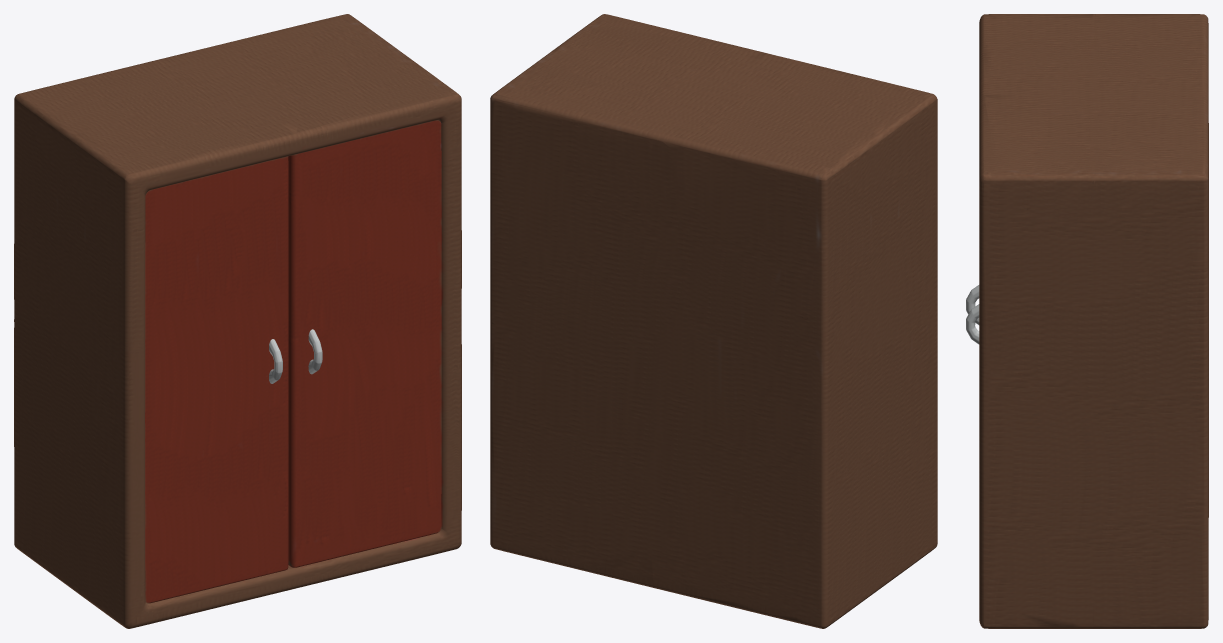
Rendered from wardrobe.glb.
3 views of the same model, side by side, from view 1: azimuth 30°, elevation 25°; view 2: azimuth 150°, elevation 25°; view 3: azimuth 270°, elevation 25° (orthographic).
Visible parts, largest first — view 1: Object_2; view 2: Object_2; view 3: Object_2.
Boxes of the visible parts, box(x1,y1,x2,y2) form: Object_2: box(14, 14, 461, 628); Object_2: box(490, 14, 937, 628); Object_2: box(966, 14, 1208, 628).
Size of the model in its own units: 7.8 by 10.04 by 4.86.
1 material, 1 textured.
